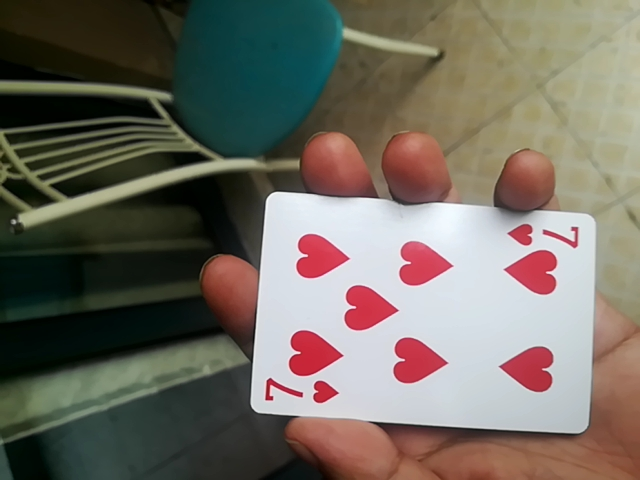hx 7: (244, 194, 599, 436)
